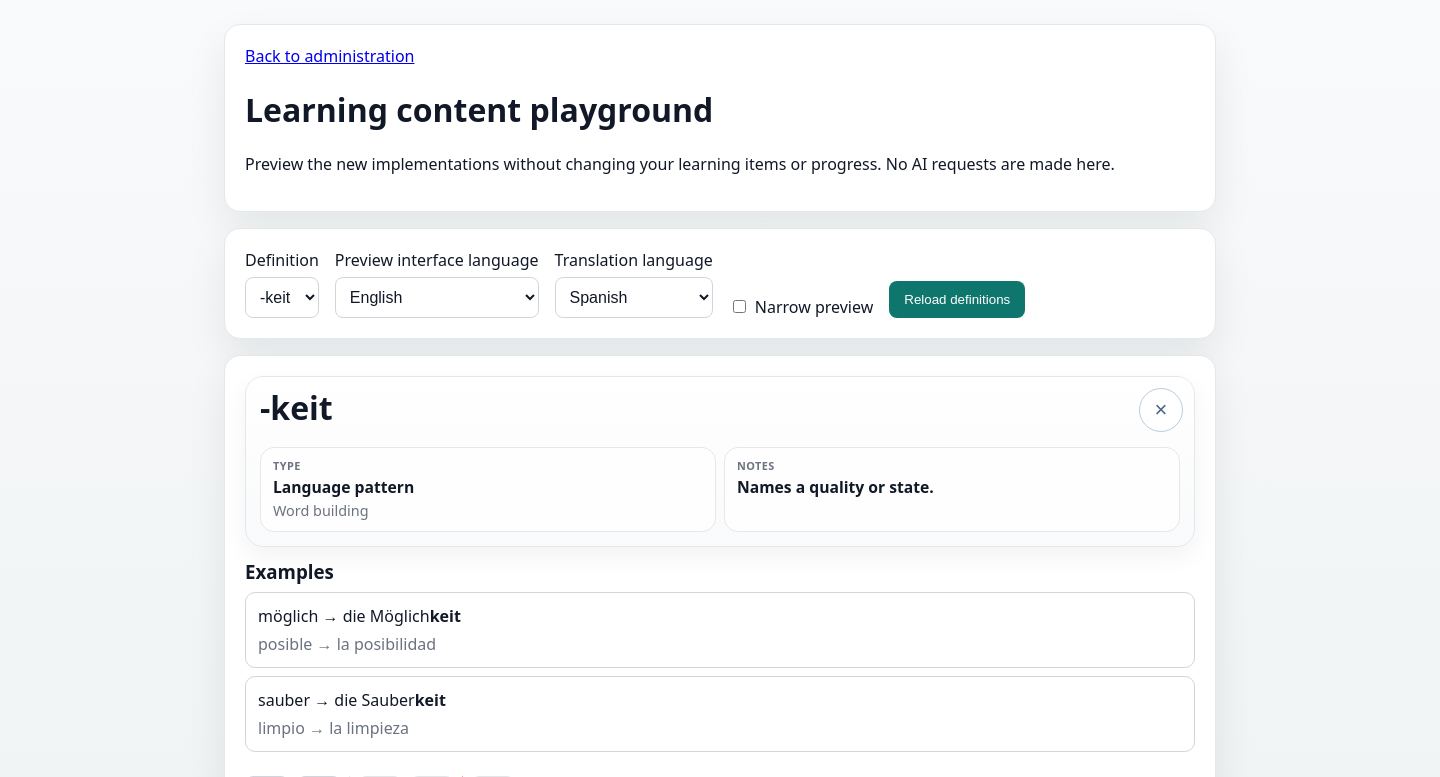
Test: closes and reopens the item without refetching or losing preview language settings
This screenshot has width=1440, height=777.
Expected: the heading "-keit" is shown, 260,391 -> 333,424
Select "Spanish" in the dropdown labelled "Preview interface language": (437, 297) 335,277 -> 538,318
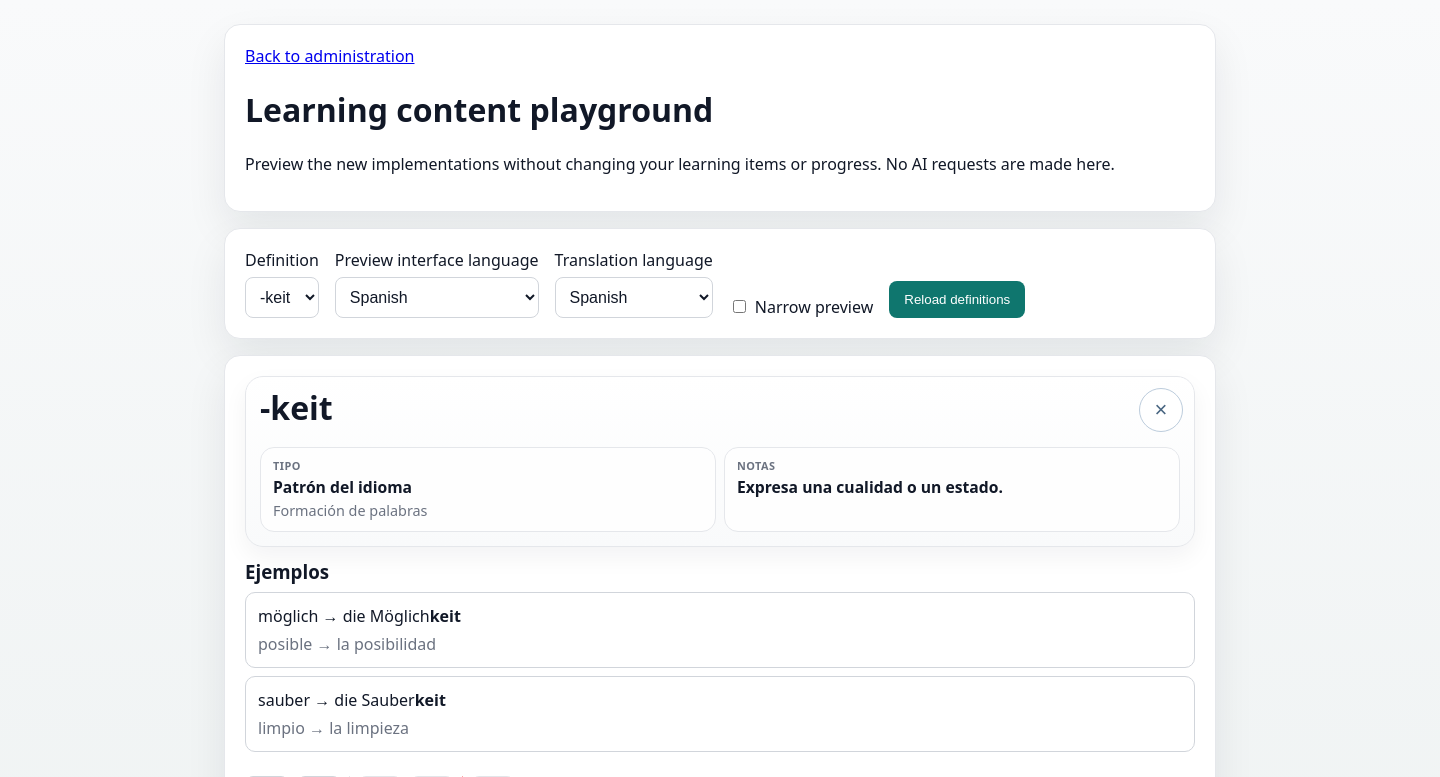
Click the button named "Cerrar": (1161, 410) 1139,388 -> 1183,432
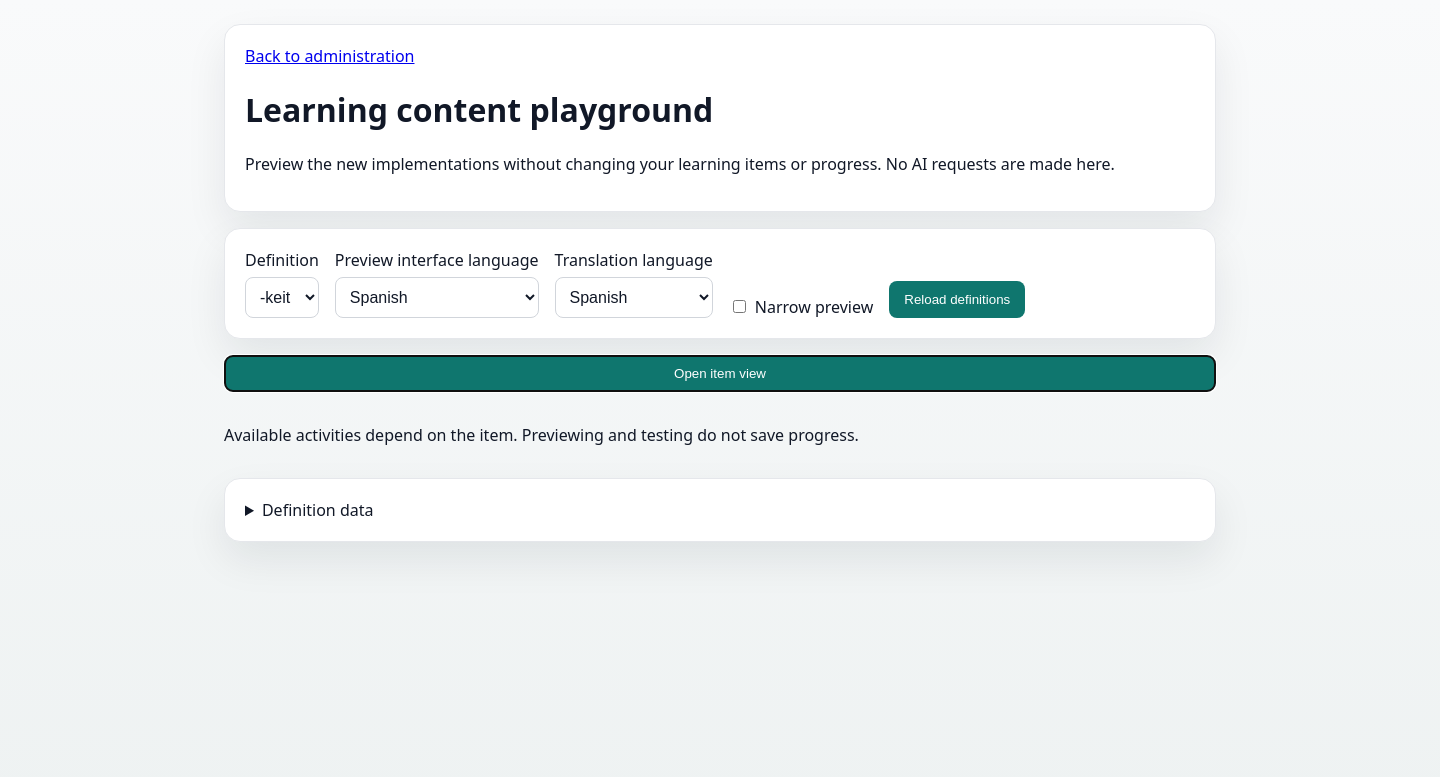
Click the button "Open item view": (720, 373) 224,355 -> 1216,392
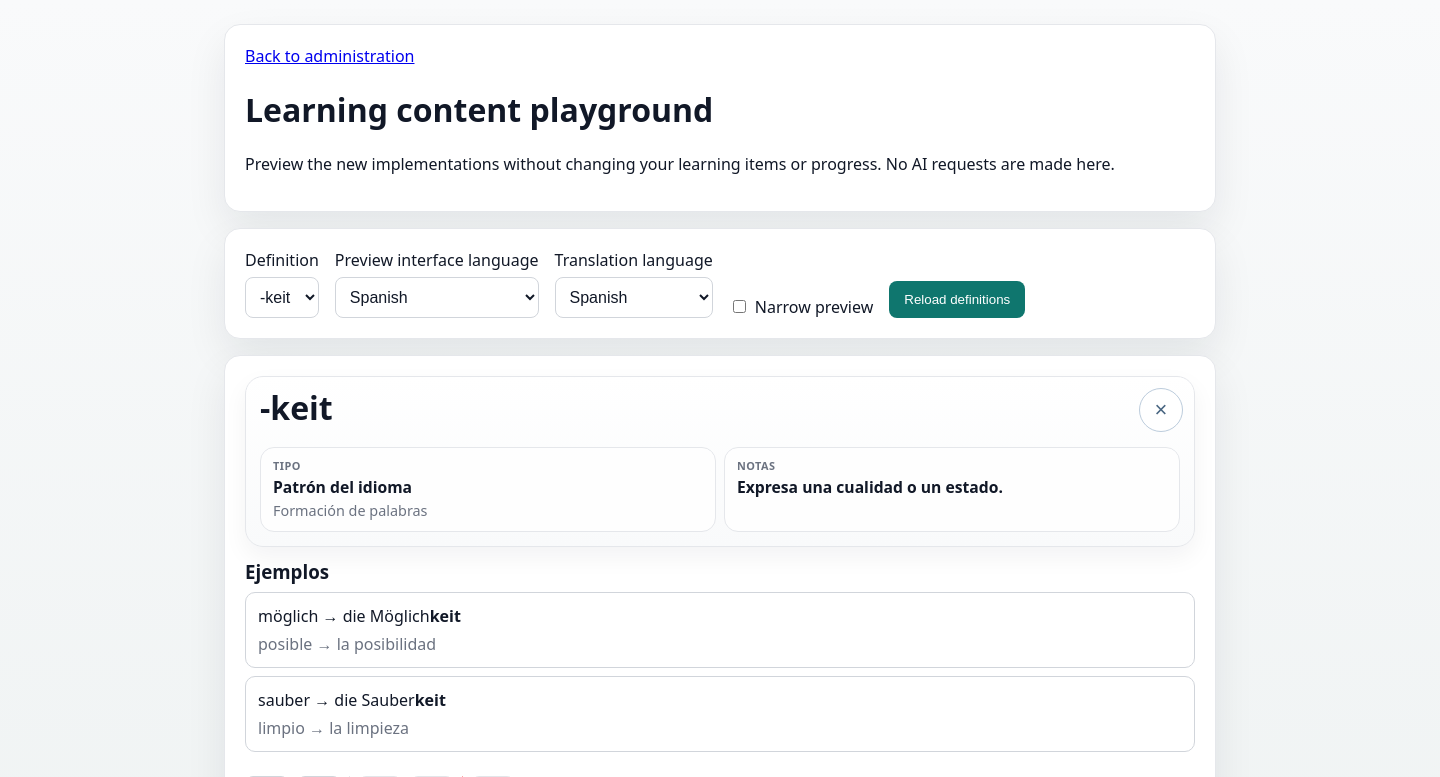
Expected: the heading "-keit" is shown, 260,391 -> 333,424
Expected: the button named "Cerrar" is shown, 1139,388 -> 1183,432
